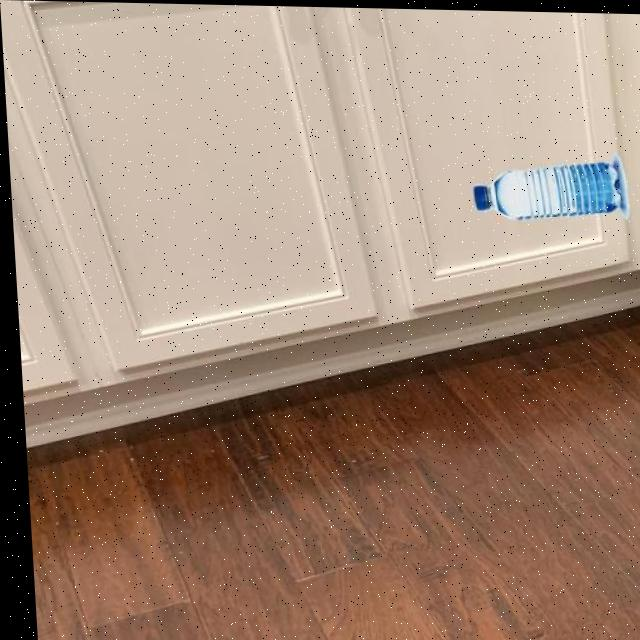bottle: (467, 147, 629, 221)
